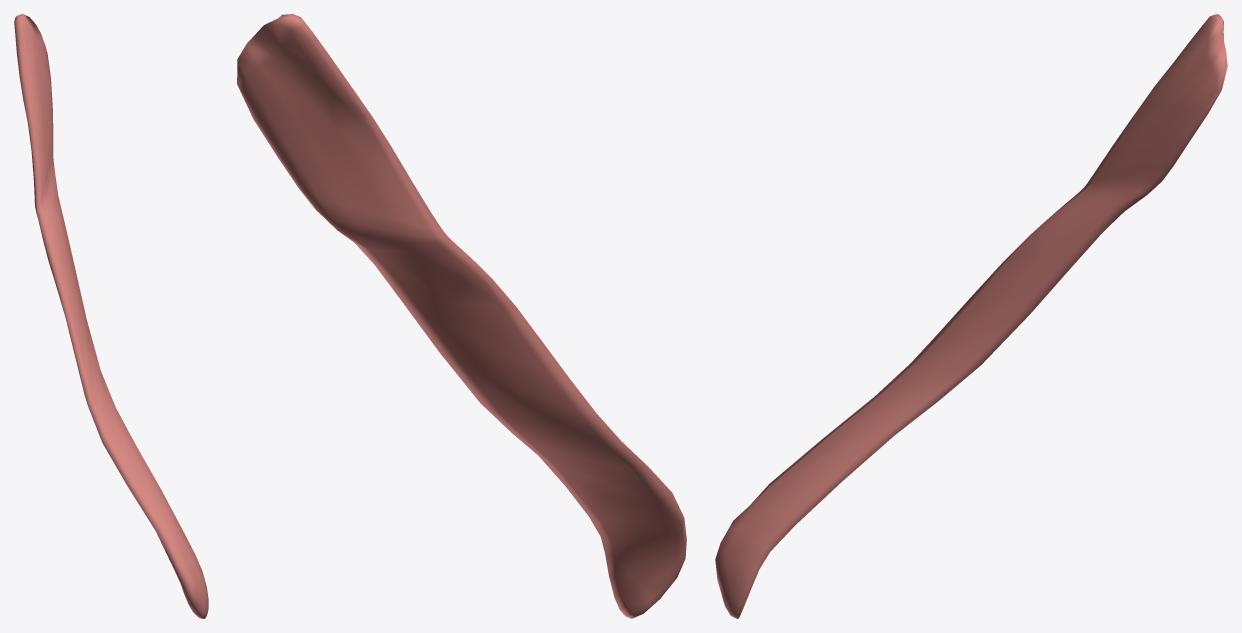
The picture shows the model from 3 angles, left to right: view 1: azimuth 30°, elevation 25°; view 2: azimuth 150°, elevation 25°; view 3: azimuth 270°, elevation 25°; orthographic projection. The views are drawn at different scales.
Visible parts, largest first — view 1: ZA_b93b55191f26c0fc; view 2: ZA_b93b55191f26c0fc; view 3: ZA_b93b55191f26c0fc.
Boxes of the visible parts, box(x1,y1,x2,y2) form: ZA_b93b55191f26c0fc: box(14, 14, 208, 618); ZA_b93b55191f26c0fc: box(237, 14, 686, 618); ZA_b93b55191f26c0fc: box(715, 14, 1227, 618).
Size of the model in its own units: 0.00383 by 0.0221 by 0.0169.
